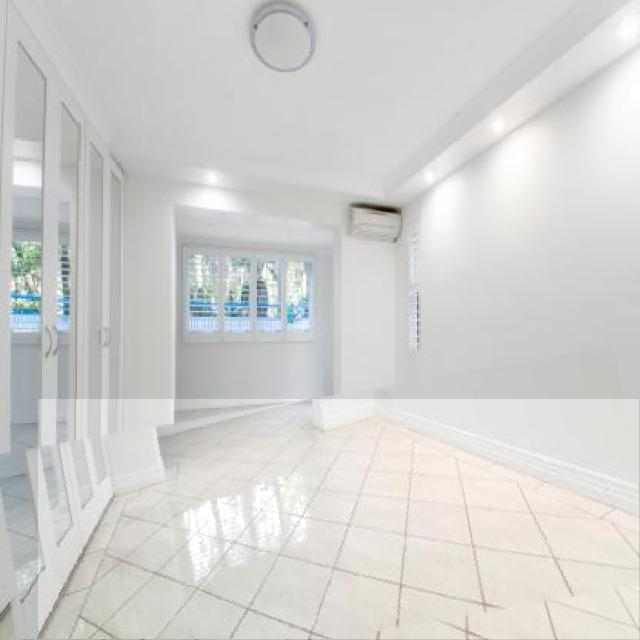floor: (39, 399, 639, 640)
